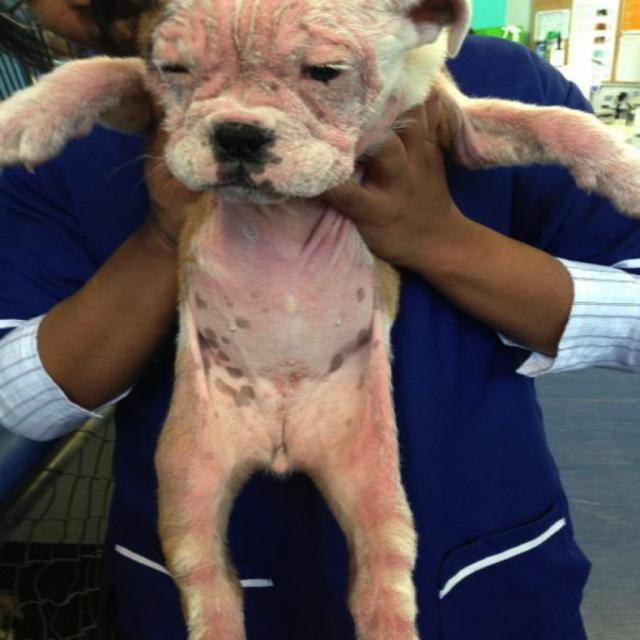fungal infection: (206, 210, 349, 290), (198, 285, 272, 413), (480, 101, 603, 160), (300, 26, 361, 136), (155, 12, 227, 104), (229, 0, 287, 98), (35, 60, 150, 106), (306, 320, 384, 378), (175, 445, 222, 538), (358, 402, 399, 508), (357, 509, 410, 575), (197, 559, 240, 628), (363, 588, 408, 634), (350, 286, 373, 308)
